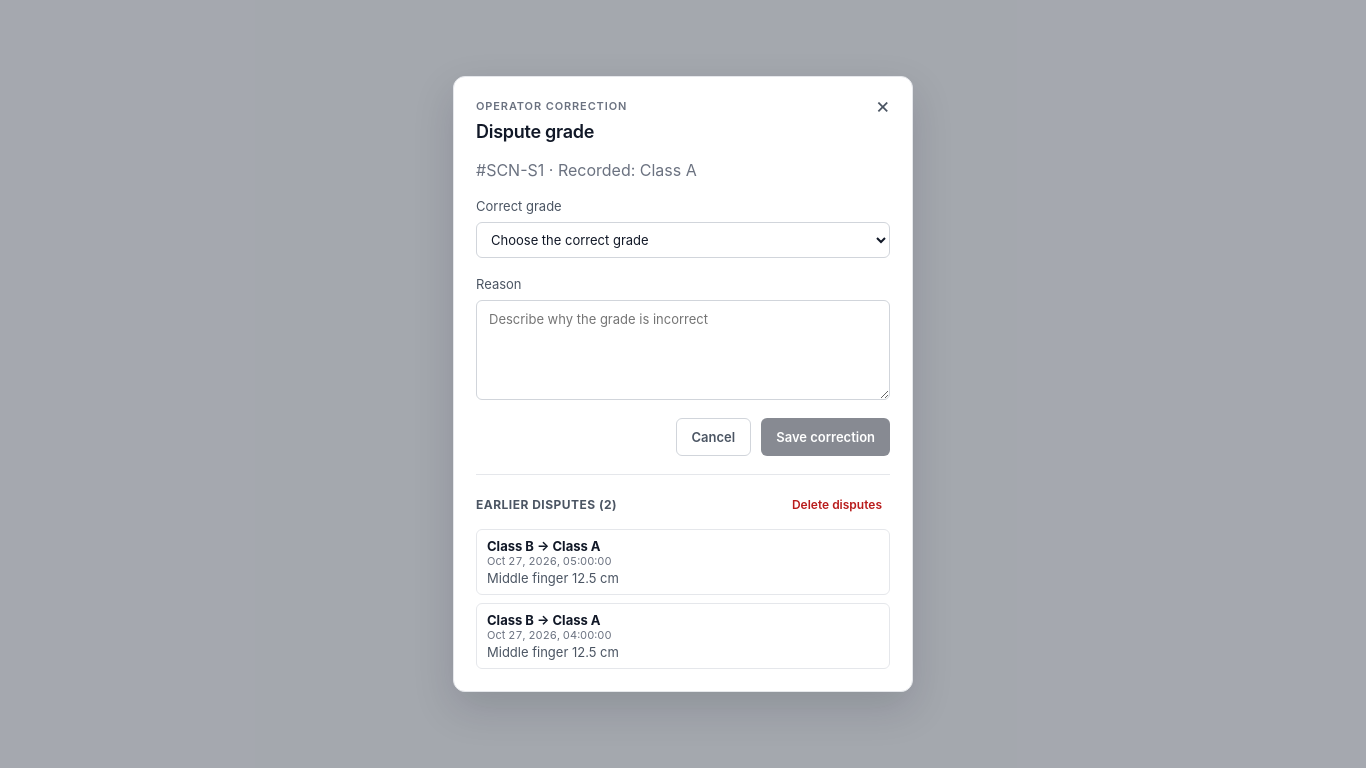
Scenario: DisputeModal › deletes all disputes after confirming and goes back to the scanner grade
Expected: the number of list items is 2, [476,529,890,595]; [476,603,890,669]
Click the button "Delete disputes".
click(837, 505)  # box [784,489,890,521]
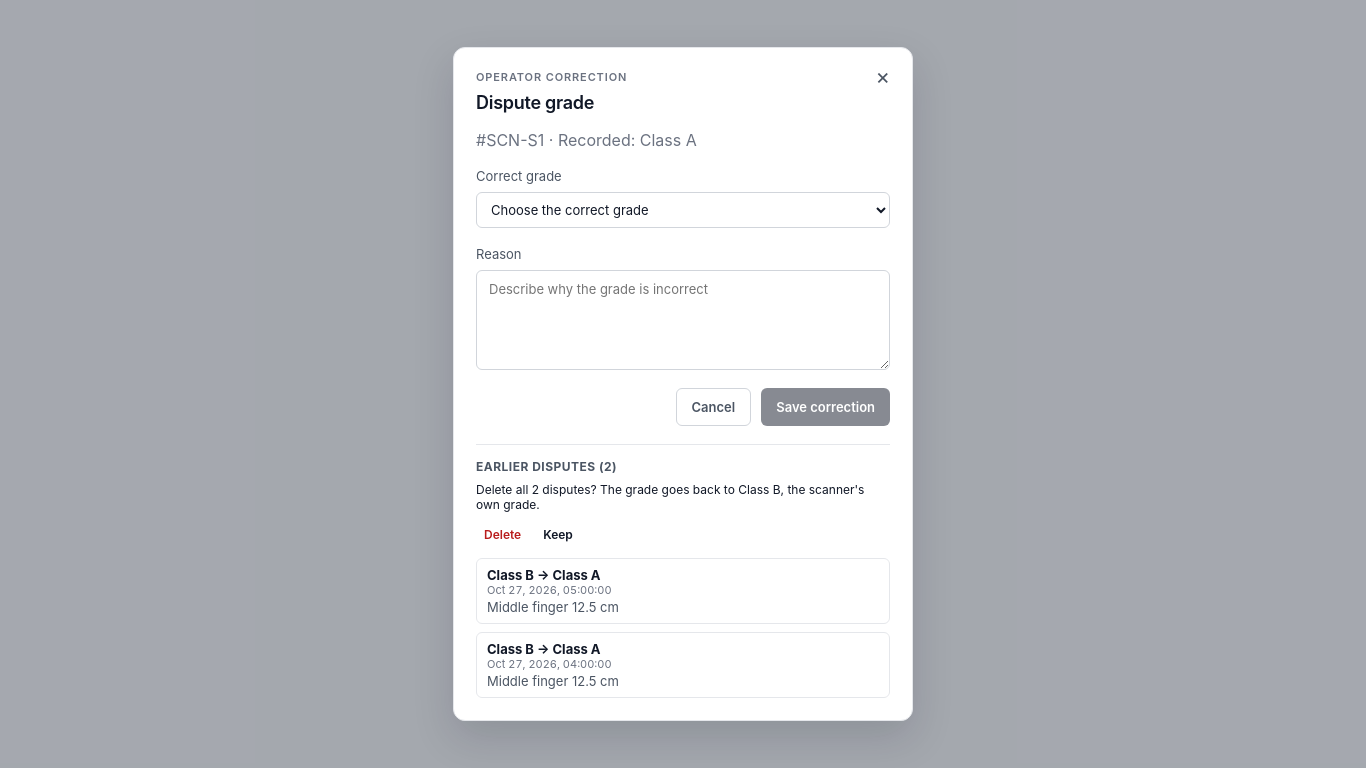
Expected: the element with class "dispute-confirm" shows "Delete all 2 disputes? The grade goes back to Class B", [476,482,864,512]
Click the button "Delete".
click(503, 534)  # box [476,518,529,550]
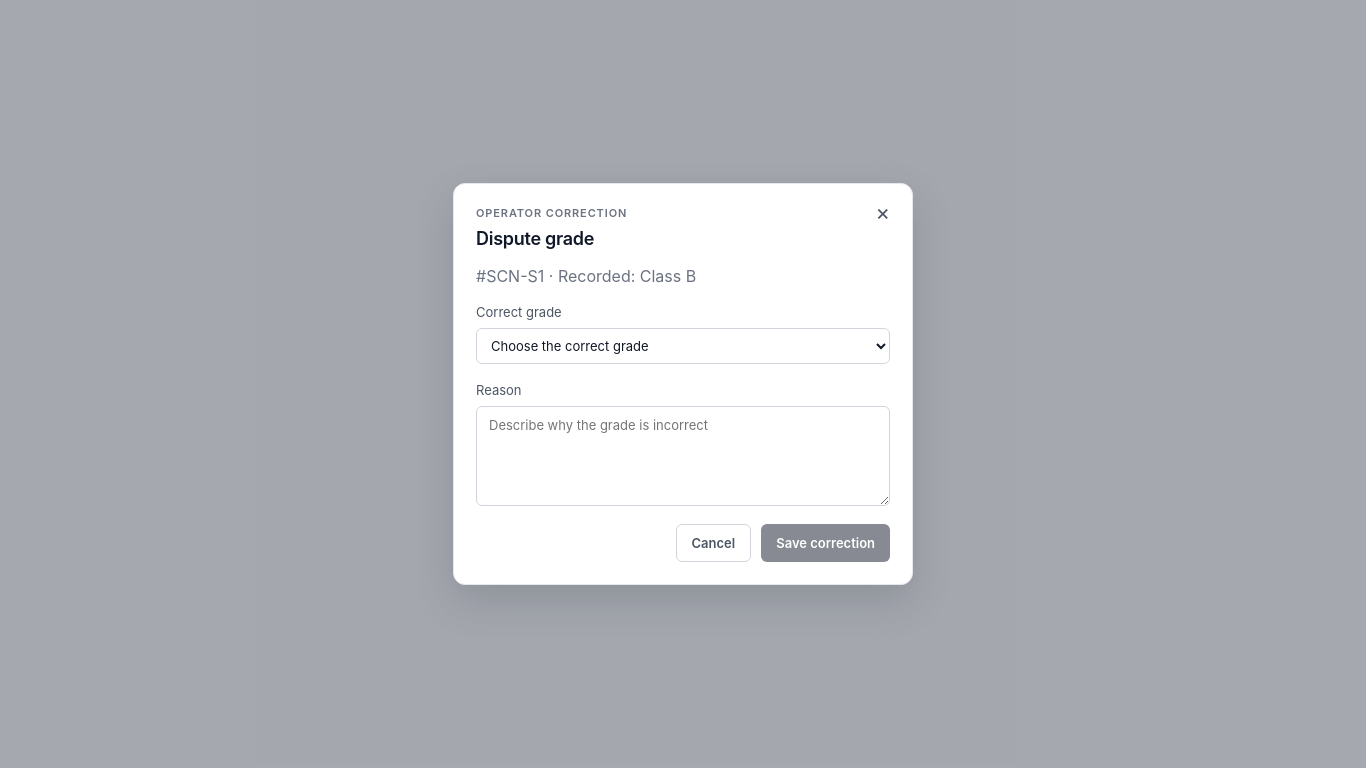
Expected: the text "Recorded: Class B" is shown, [476,266,696,286]
